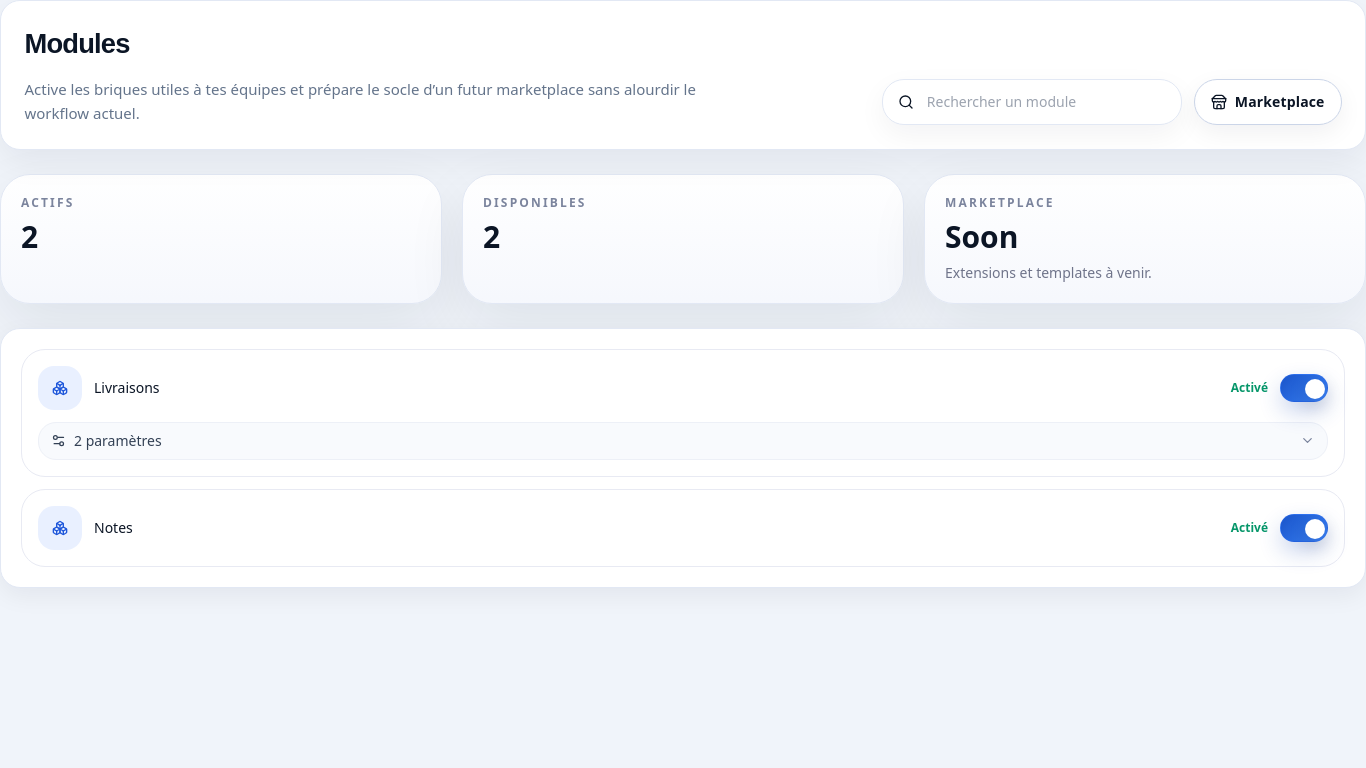
Test: ModulesPage › shows a disclosure with settings labels only for configurable modules
This screenshot has width=1366, height=768.
Expected: the text "2 paramètres" is shown, [51, 431, 162, 451]
Click the heading "2 paramètres" at (118, 440), box [51, 431, 1315, 451]
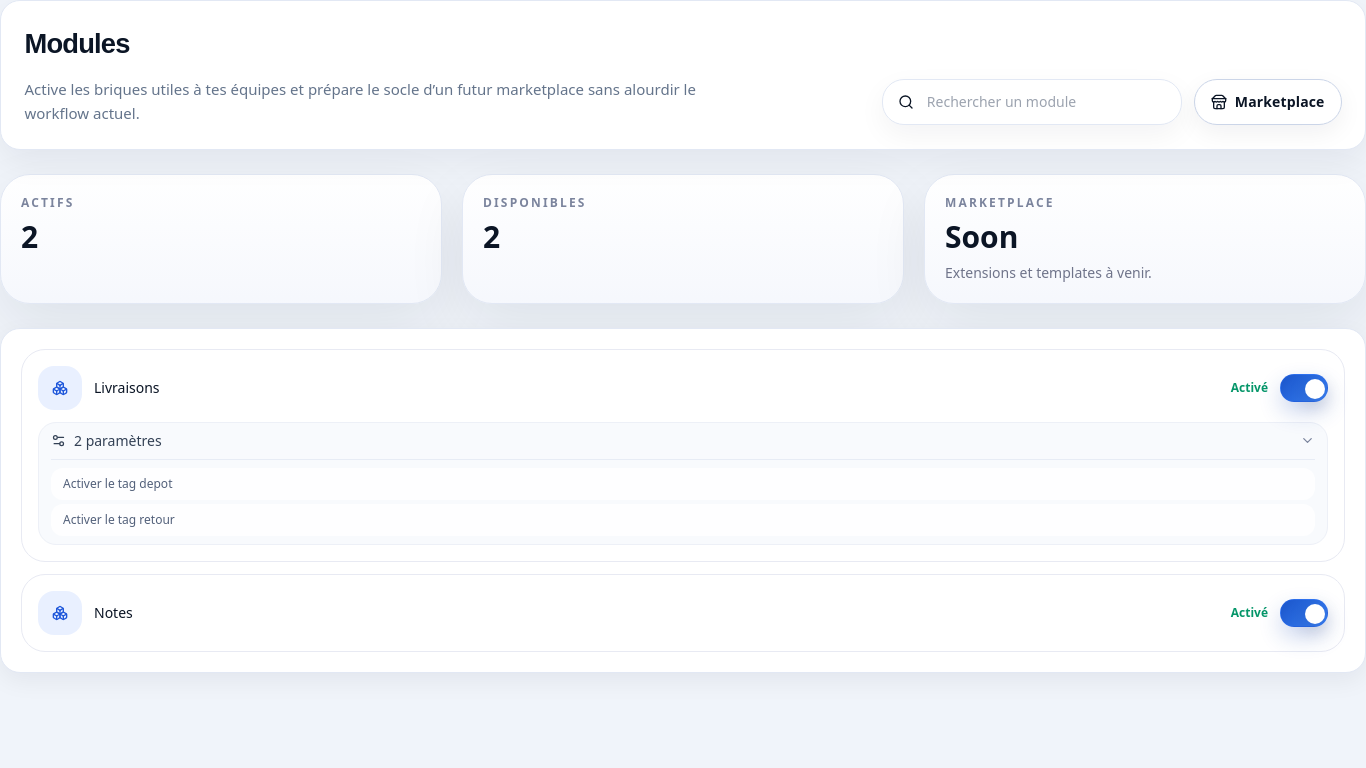
Expected: the text "Activer le tag depot" is shown, [51, 468, 1315, 500]
Expected: the text "Activer le tag retour" is shown, [51, 504, 1315, 536]
